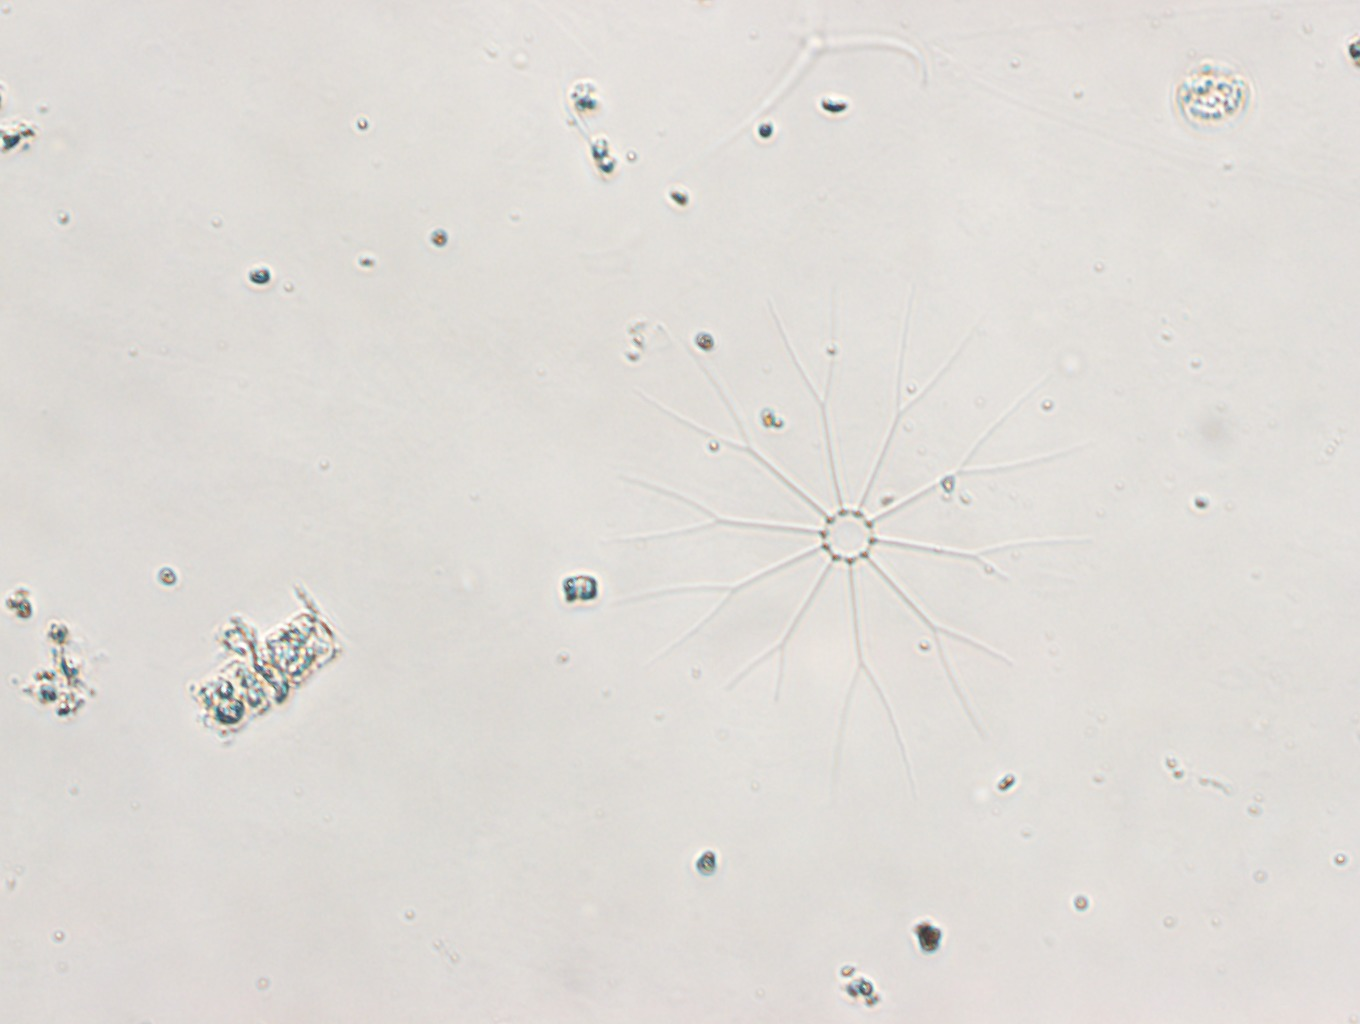bacteriastrum: (599, 291, 1108, 785)
